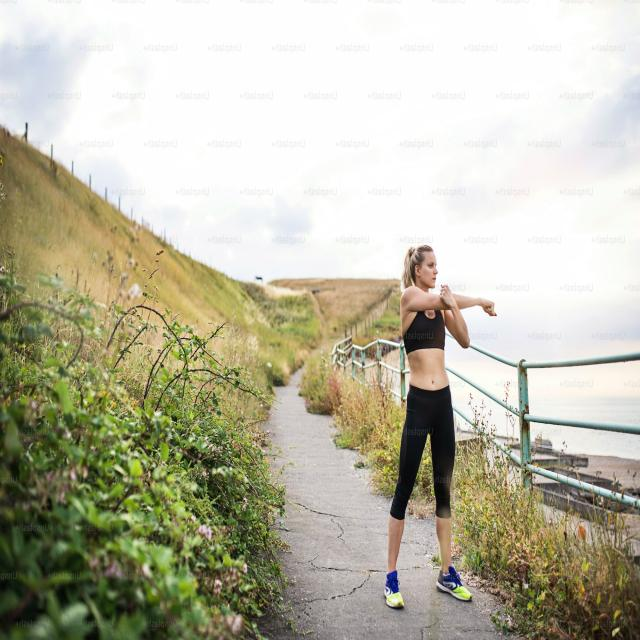adult: (382, 243, 496, 608)
